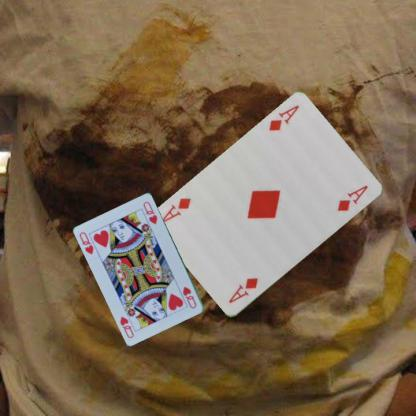Ad: (266, 103, 300, 133), (226, 275, 259, 305)
Qh: (77, 229, 95, 256), (180, 284, 198, 310)
